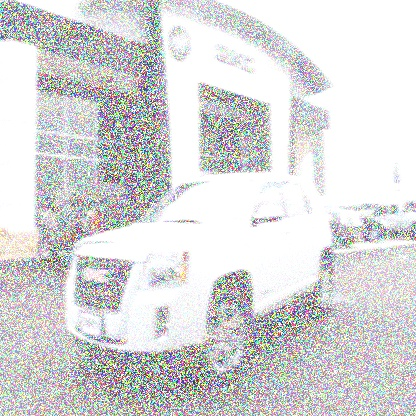Vehicle: (63, 170, 335, 387)
